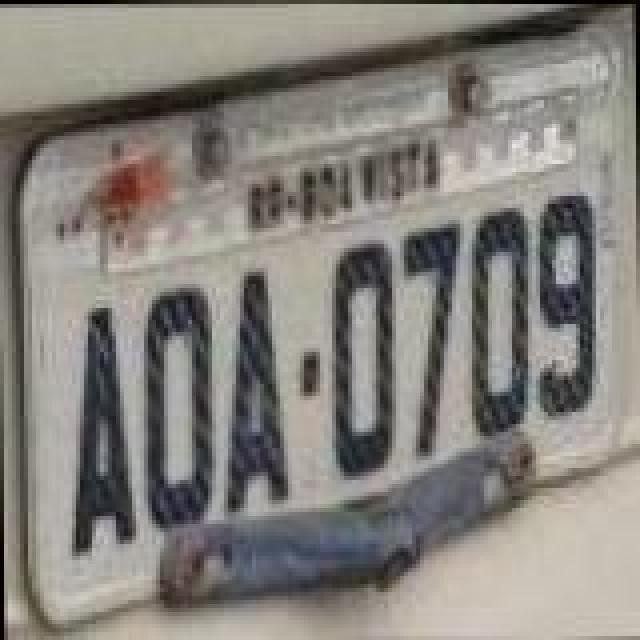7: (404, 222, 468, 458)
9: (536, 194, 600, 422)
A: (66, 304, 138, 560), (222, 272, 294, 520)
O: (140, 288, 216, 536), (328, 242, 400, 482), (466, 200, 534, 436)
